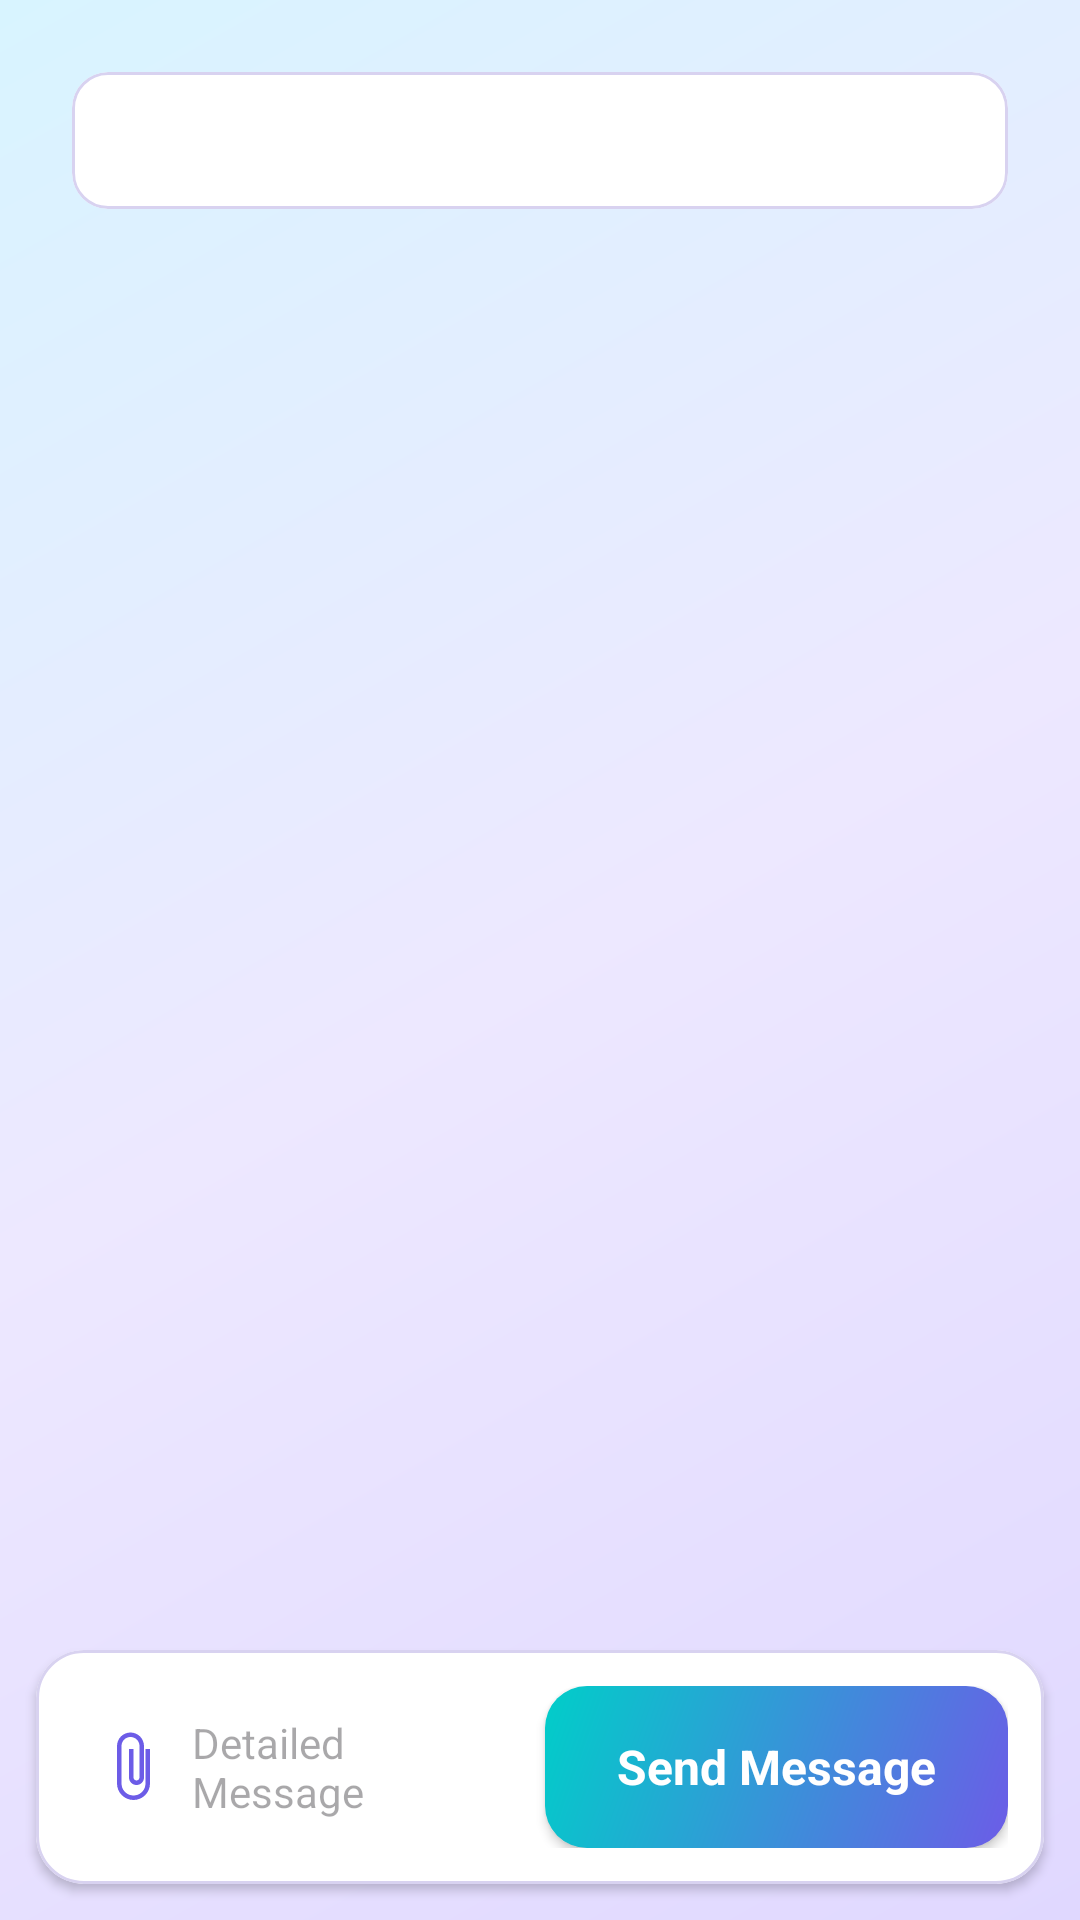

Where to tap for icons on this 1080 x 1920 app screen, as (x=x, y=y):
Attach file: (x=133, y=1766)
